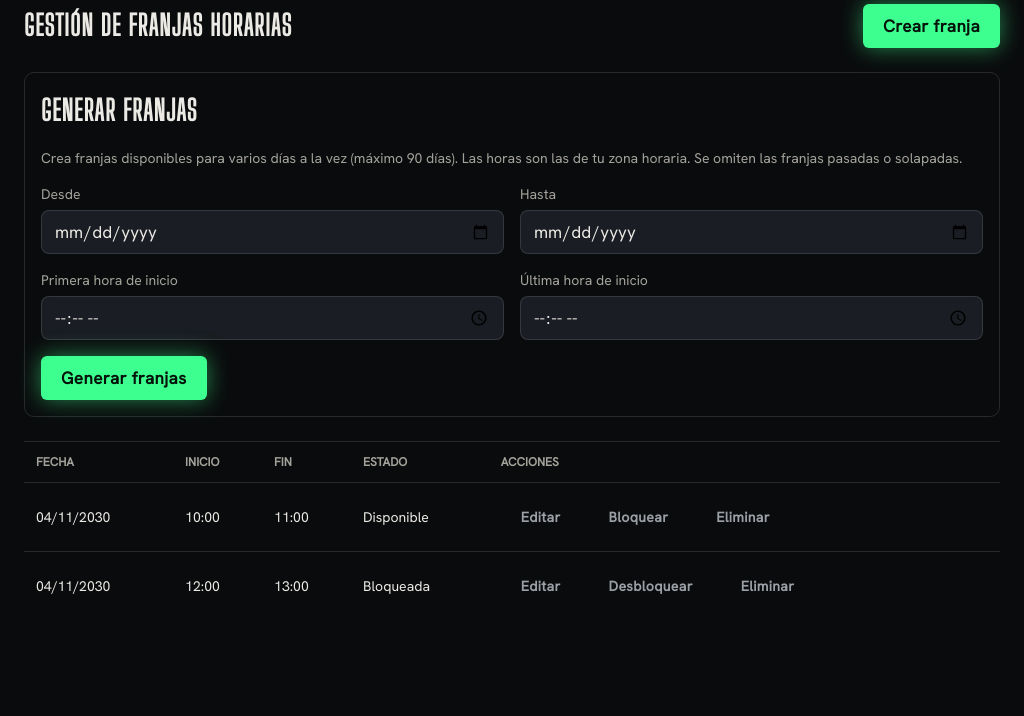
AdminSlotsPage › crea una franja y aparece en la tabla
Expected: the text "10:00" is shown, [173,483,262,552]
Step 1. Click the button "Crear franja" → (931, 26), box [863,4,1000,48]
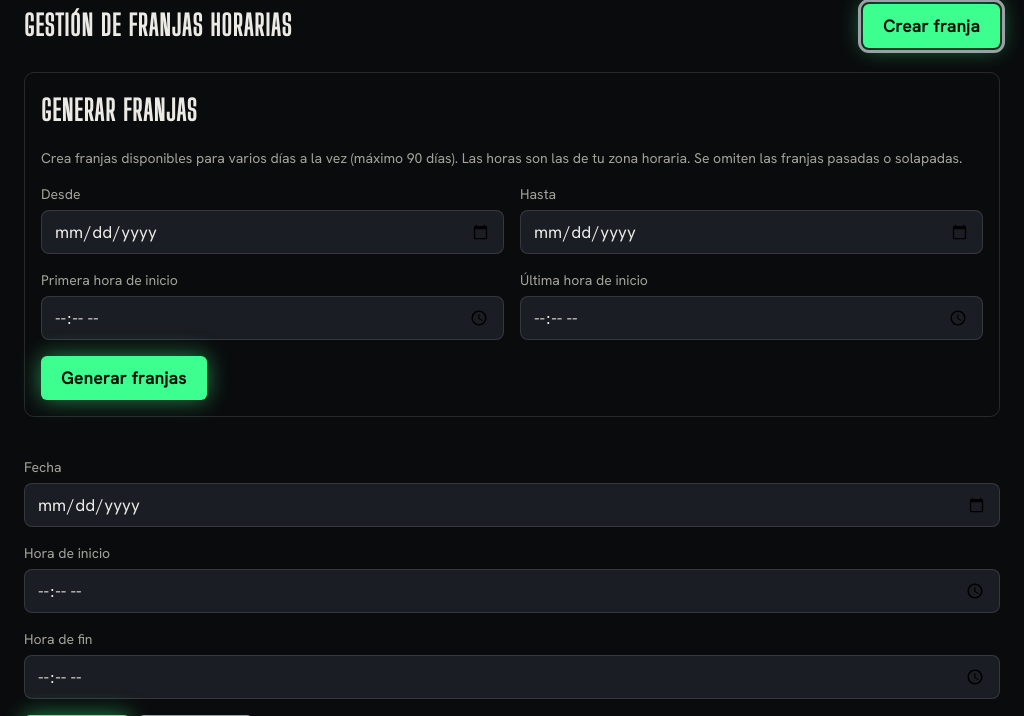
Step 2. Type "2030-11-06" into the date field labelled "Fecha" → (512, 505), box [24,483,1000,527]
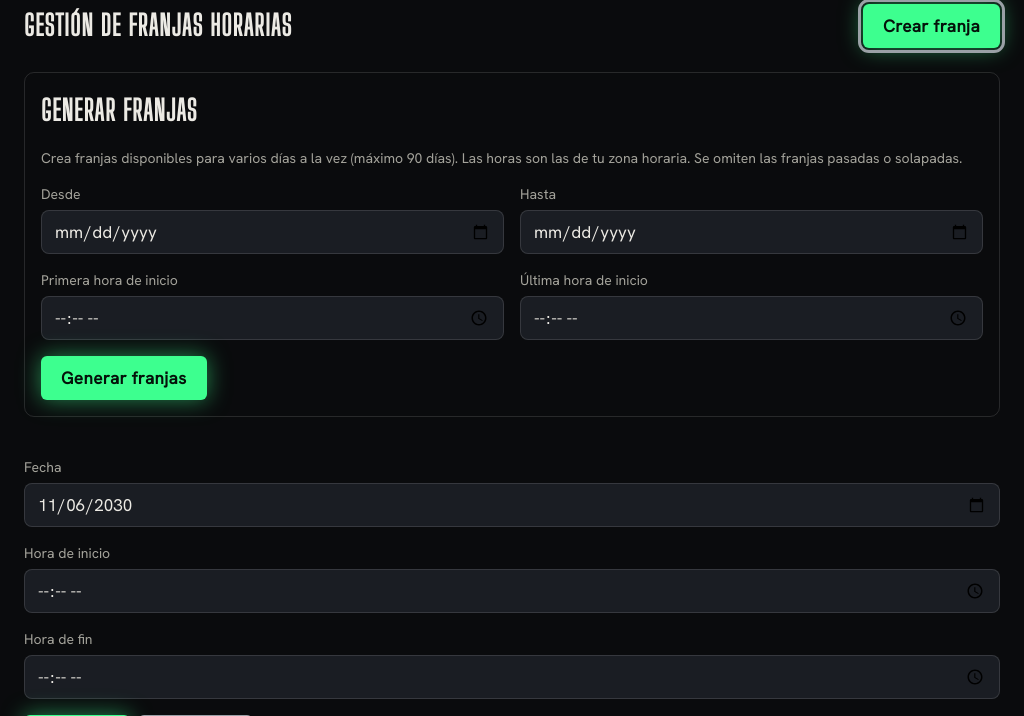
Step 3. Type "14:00" into the time field labelled "Hora de inicio" → (512, 591), box [24,569,1000,613]
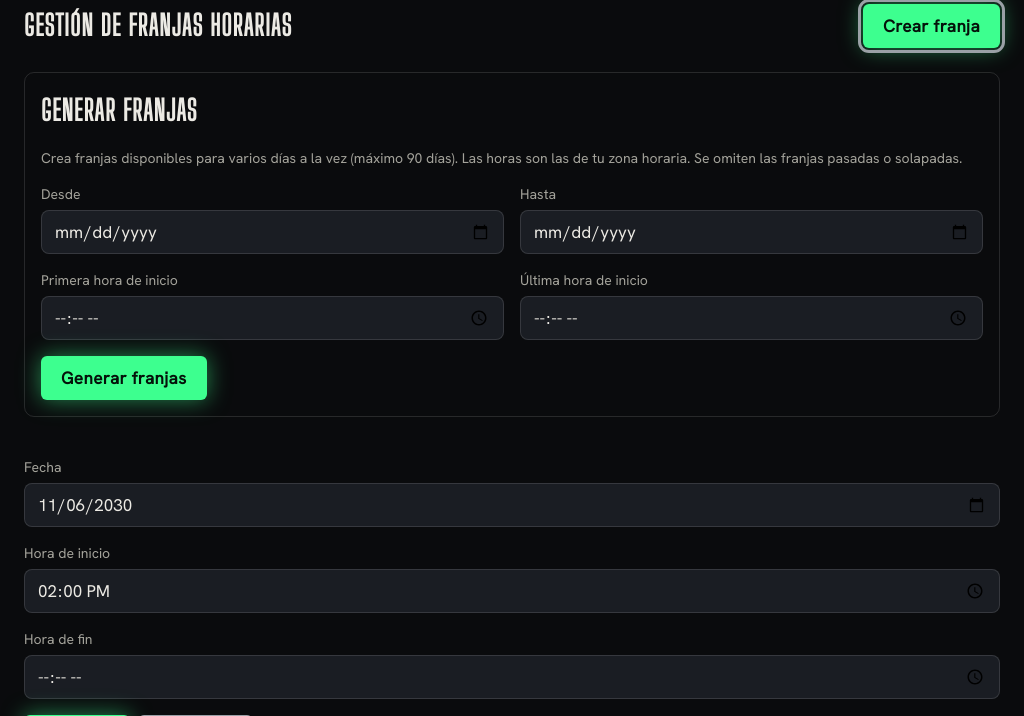
Step 4. Type "15:00" into the time field labelled "Hora de fin" → (512, 677), box [24,655,1000,699]
(page scrolled)
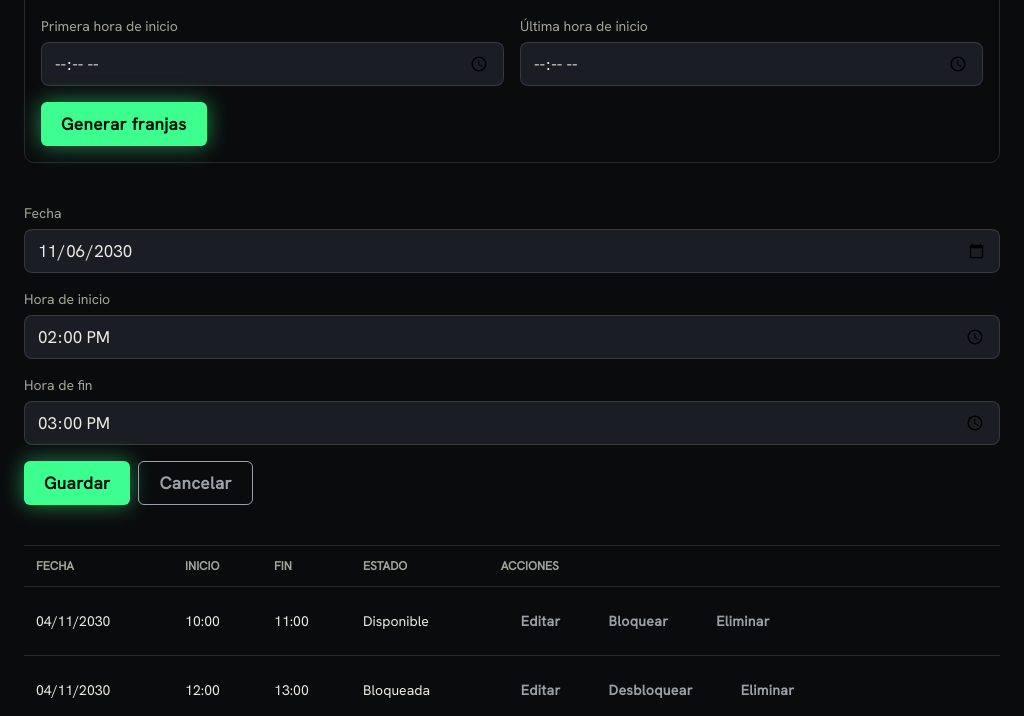
Step 5. Click the button "Guardar" → (77, 483), box [24,461,130,505]
(page scrolled)
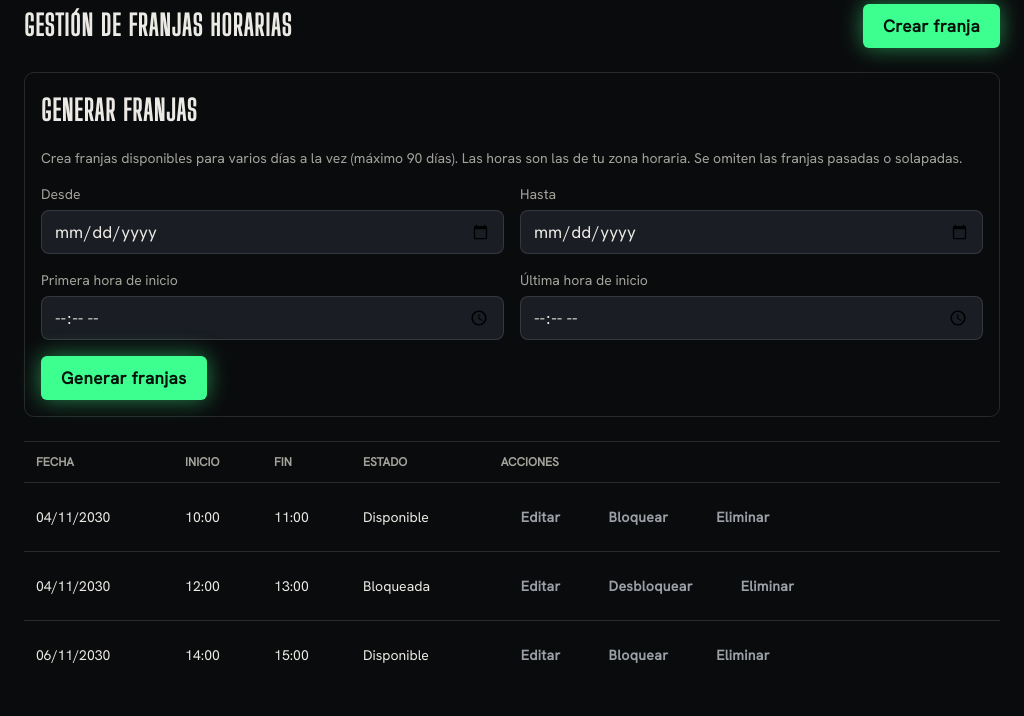
Expected: the number of rows is 4, [24,442,1000,483]; [24,483,1000,552]; [24,552,1000,621]; [24,621,1000,689]
Now the text "14:00" is shown, box [173,621,262,689]
